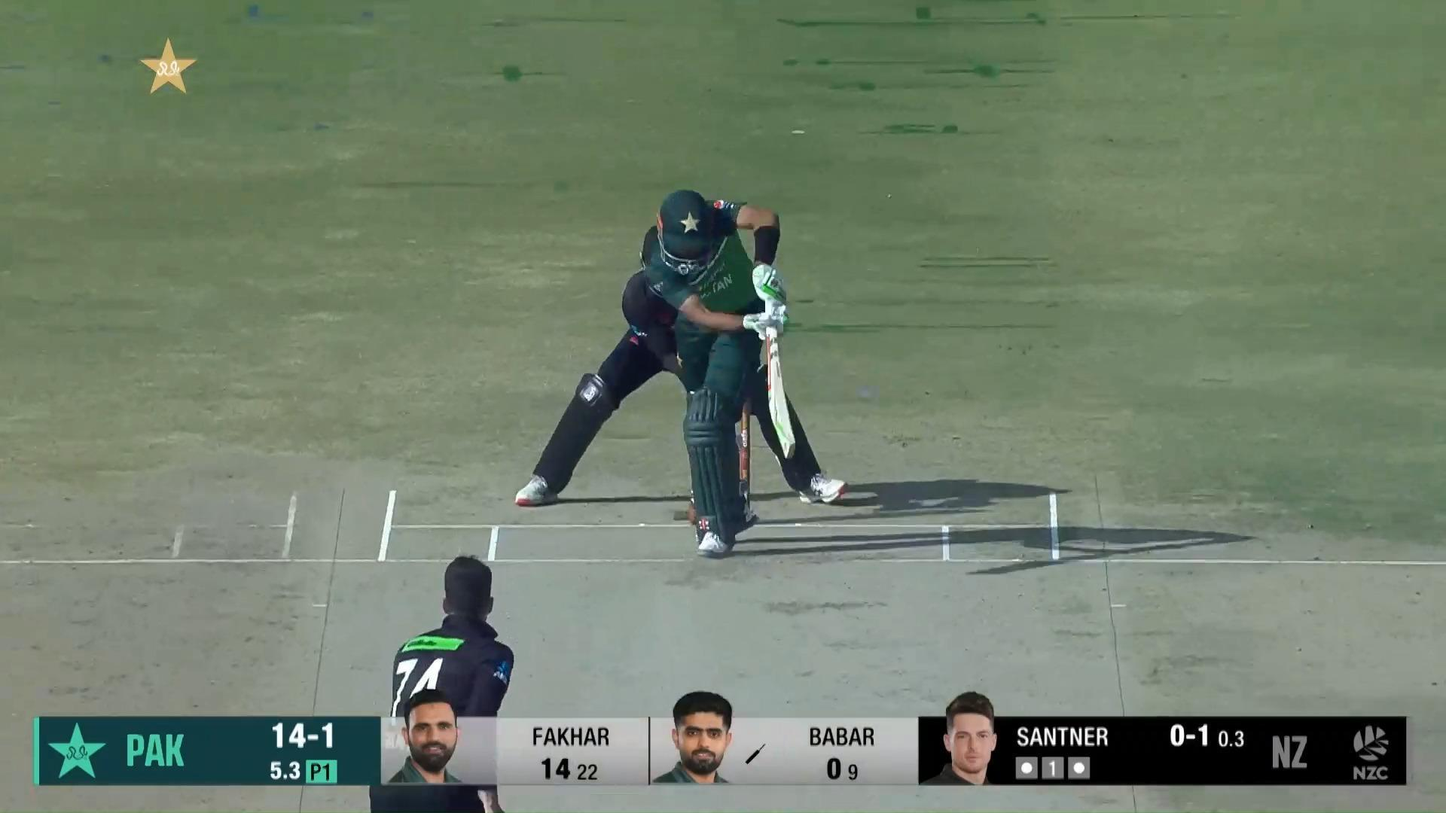BM 1: (641, 188, 795, 559)
BO: (368, 554, 516, 813)
